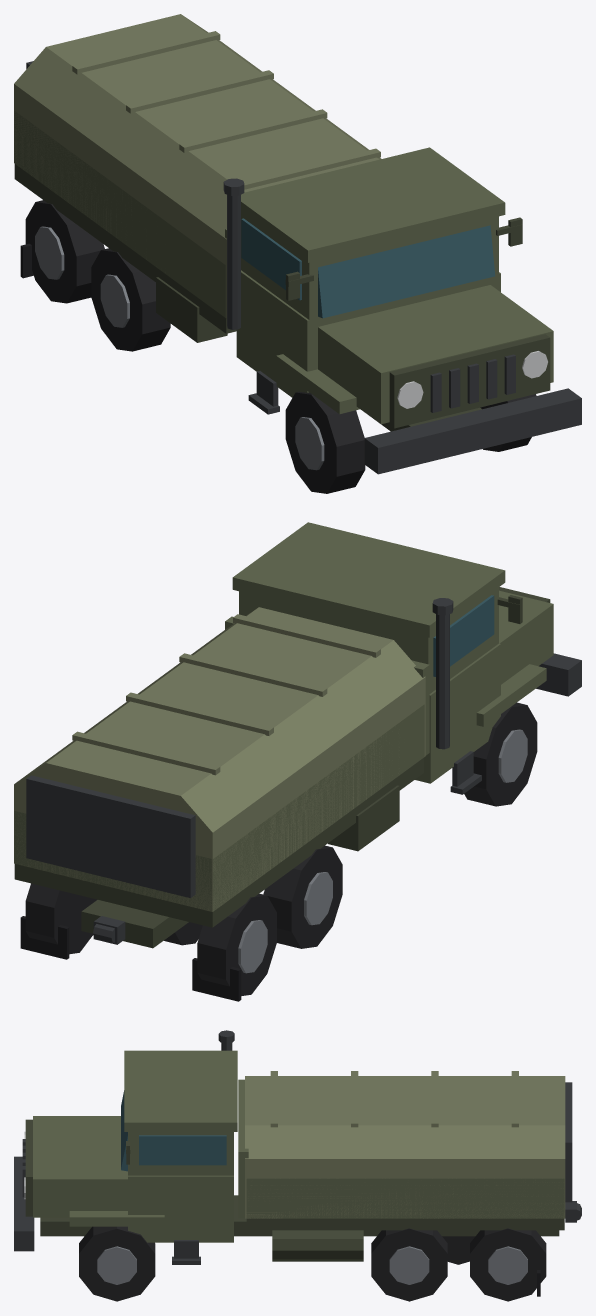
The model's file is Unit_SupplyTruck.obj.
The picture shows the model from 3 angles, top to bottom: view 1: azimuth 30°, elevation 25°; view 2: azimuth 150°, elevation 25°; view 3: azimuth 270°, elevation 25°; orthographic projection. The views are drawn at different scales.
Bounding box in the file's own units: 2.78 × 2.91 × 7.77.
